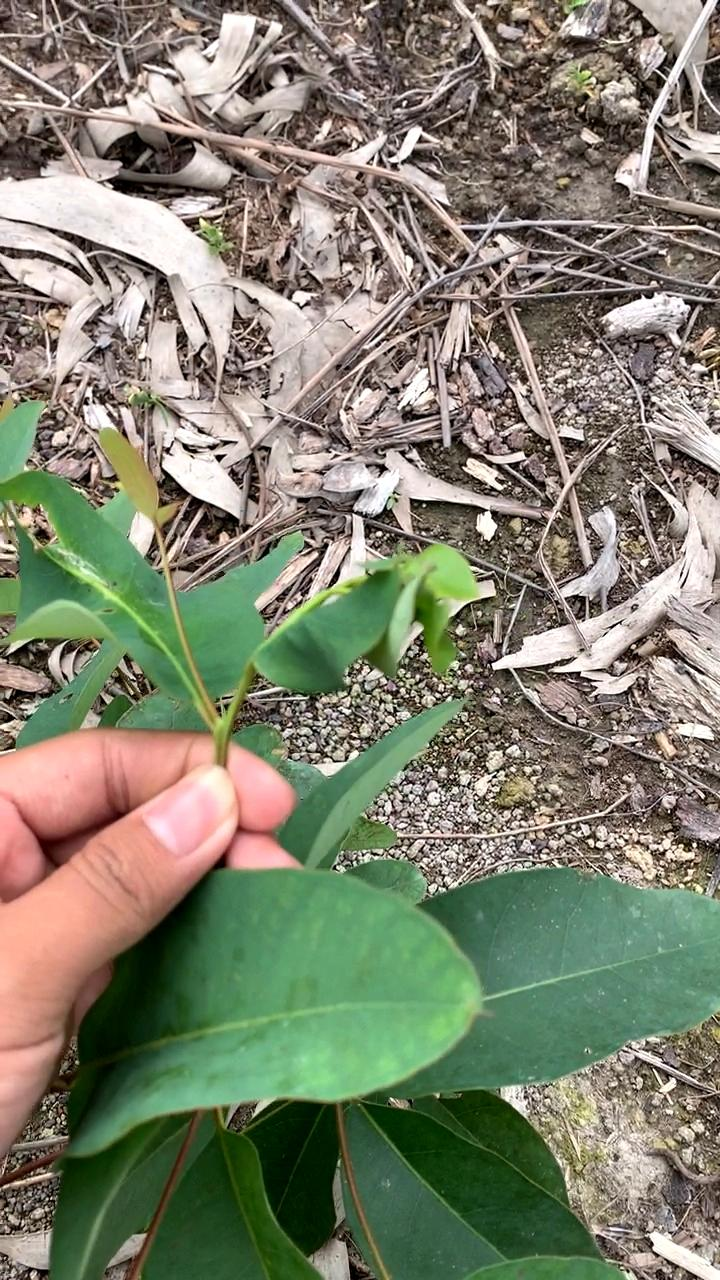Leaf Roller - Leaf: (248, 545, 499, 701)
